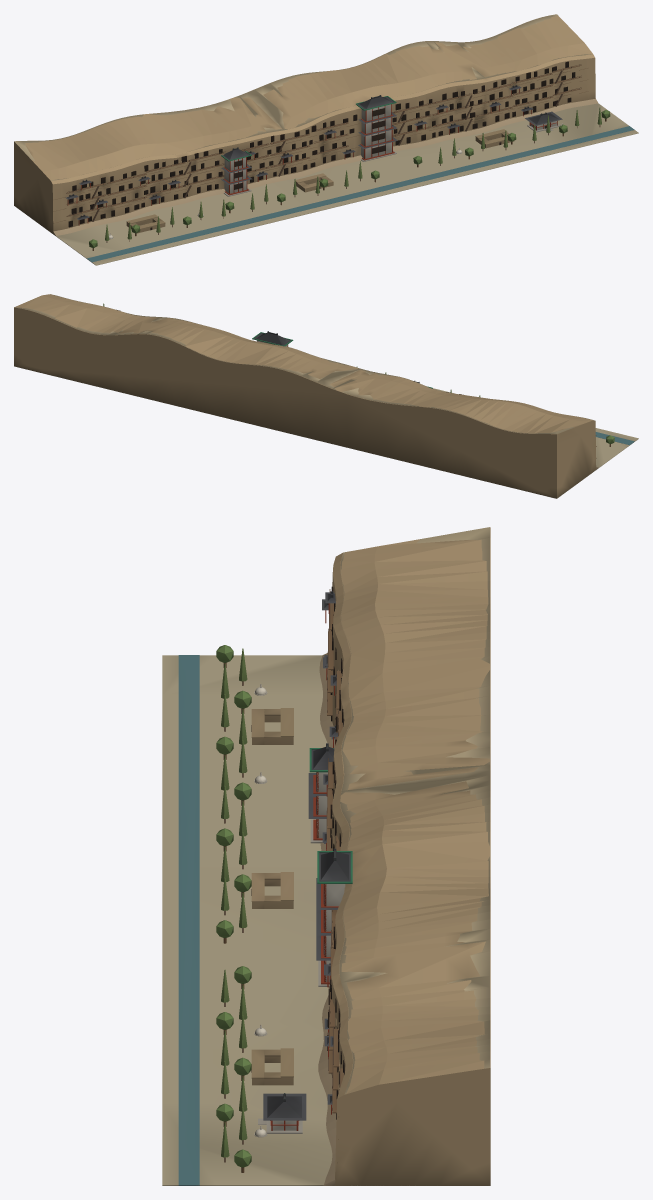
File: mogao.glb
3 views of the same model, one above another, from view 1: azimuth 30°, elevation 25°; view 2: azimuth 150°, elevation 25°; view 3: azimuth 270°, elevation 25° (orthographic). The views are drawn at different scales.
Parts seen in each view (by area): view 1: p0_valley, p1_halls, p2_roofs; view 2: p0_valley, p2_roofs; view 3: p0_valley, p2_roofs, p1_halls.
Part boxes in pixels (left/top/right/bottom): p0_valley: left=14, top=14, right=638, bottom=265; p1_halls: left=66, top=61, right=581, bottom=239; p2_roofs: left=65, top=85, right=610, bottom=250; p0_valley: left=14, top=294, right=638, bottom=498; p2_roofs: left=103, top=303, right=614, bottom=446; p0_valley: left=162, top=527, right=490, bottom=1185; p2_roofs: left=216, top=591, right=352, bottom=1172; p1_halls: left=251, top=586, right=345, bottom=1137.
Size of the model in its own units: 420 by 48.31 by 110.
